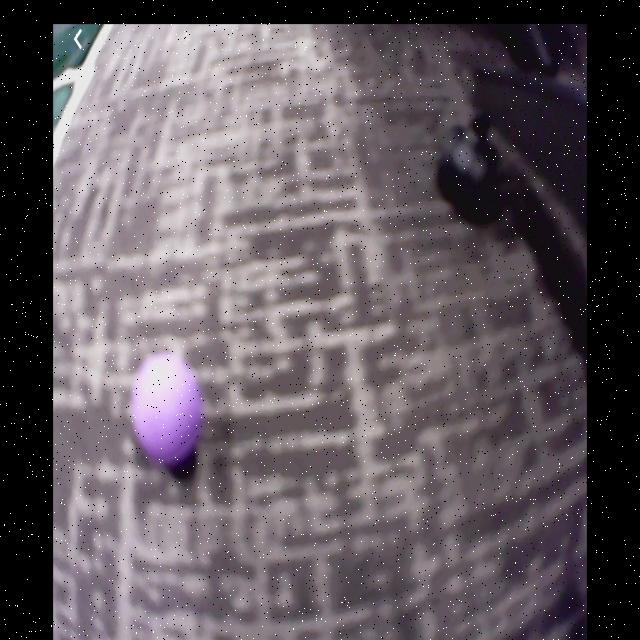ball: (130, 354, 200, 464)
